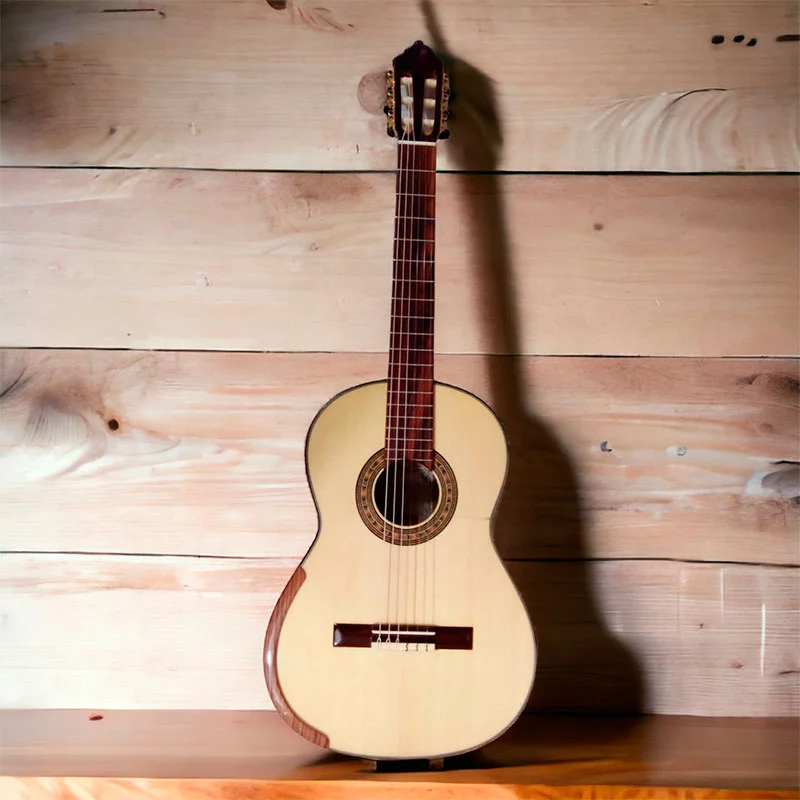guitar: (259, 17, 538, 769)
